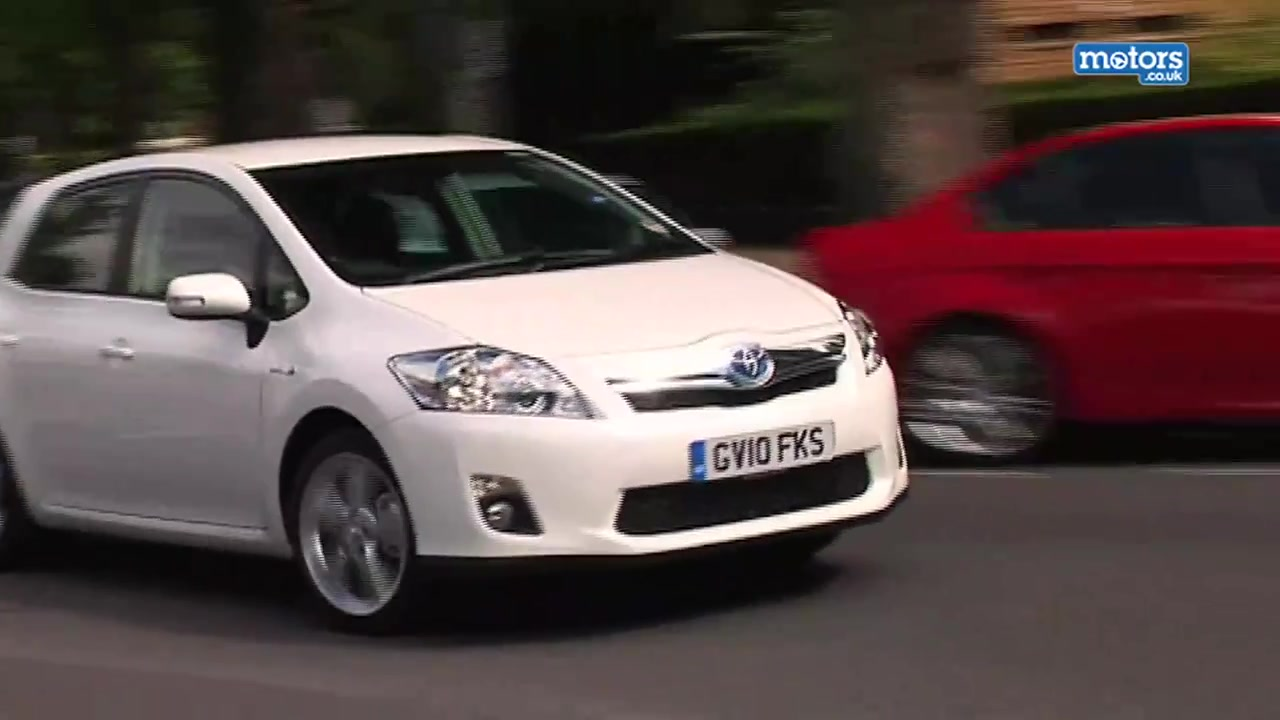car: (4, 139, 914, 634), (785, 107, 1280, 472)
